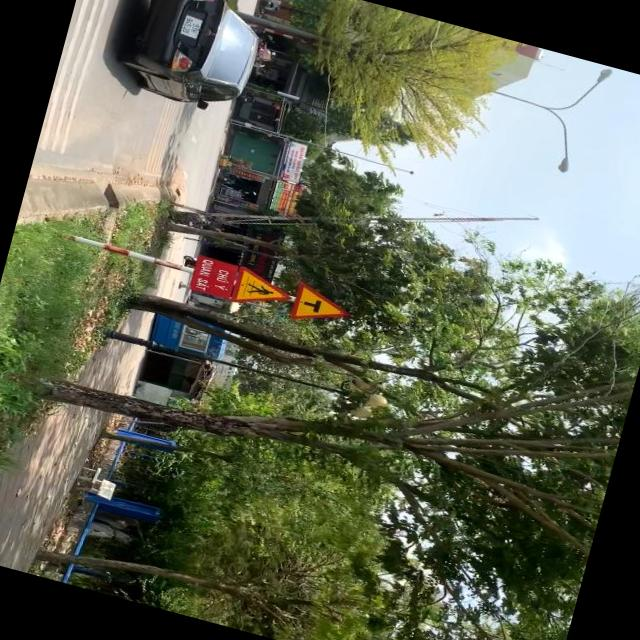W-205d: (286, 278, 359, 337)
W-224: (228, 262, 296, 318)
